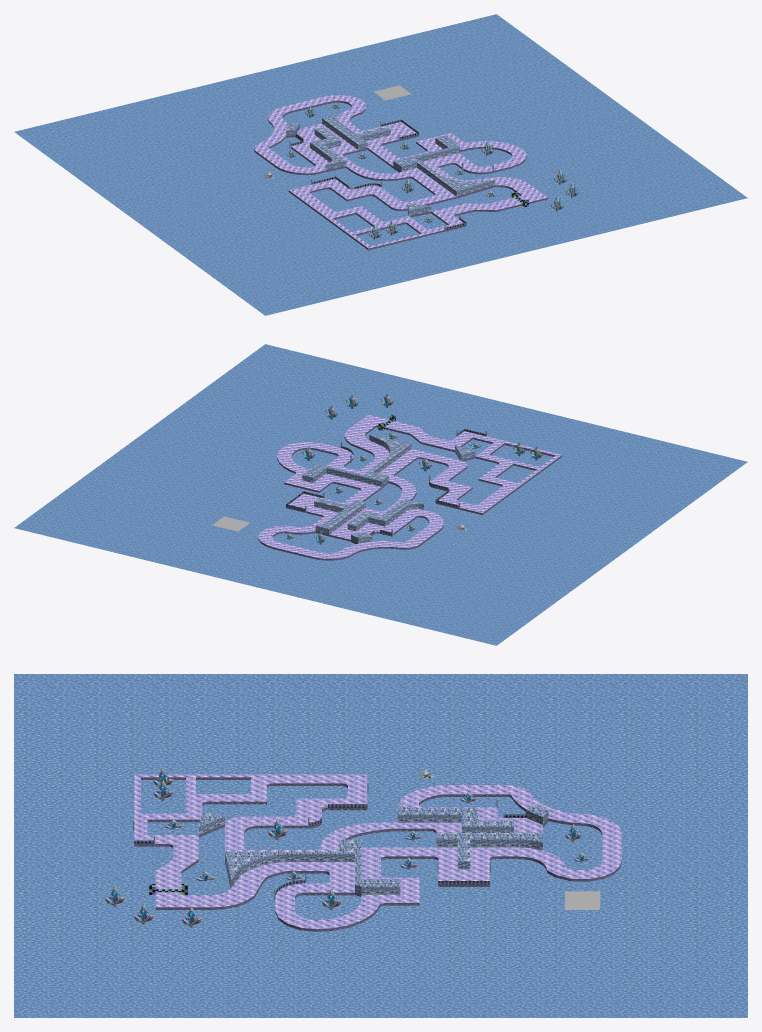
3 views of the same model, one above another, from view 1: azimuth 30°, elevation 25°; view 2: azimuth 150°, elevation 25°; view 3: azimuth 270°, elevation 25° (orthographic). The views are drawn at different scales.
Visible parts, largest first — view 1: course-SKP--Water.002, course-SKP--Zroad, course-SKP--zwall0, course-SKP--zwall, course-SKP--wCrystal; view 2: course-SKP--Water.002, course-SKP--Zroad, course-SKP--zwall0, course-SKP--zwall, course-SKP--wCrystal; view 3: course-SKP--Water.002, course-SKP--Zroad, course-SKP--zwall0, course-SKP--zwall, course-SKP--wCrystal, course-SKP--Bardabotch, course-SKP--Default_Material.017.
Part boxes in pixels (box(x1,y1,x2,y2)): course-SKP--Water.002: box(14, 14, 747, 315); course-SKP--Zroad: box(254, 95, 547, 248); course-SKP--zwall0: box(286, 115, 495, 231); course-SKP--zwall: box(254, 100, 547, 250); course-SKP--wCrystal: box(287, 102, 578, 239); course-SKP--Water.002: box(14, 344, 747, 645); course-SKP--Zroad: box(258, 414, 561, 558); course-SKP--zwall0: box(302, 430, 486, 543); course-SKP--zwall: box(258, 425, 562, 560); course-SKP--wCrystal: box(283, 393, 542, 544); course-SKP--Water.002: box(14, 674, 747, 1017); course-SKP--Zroad: box(134, 774, 621, 929); course-SKP--zwall0: box(133, 782, 548, 900); course-SKP--zwall: box(134, 777, 621, 931); course-SKP--wCrystal: box(105, 767, 590, 927); course-SKP--Bardabotch: box(134, 804, 525, 895); course-SKP--Default_Material.017: box(322, 805, 600, 909).
Bounding box in the file's own units: 138350 × 4530 × 124775.
Materials: 8 (7 with a texture image).
